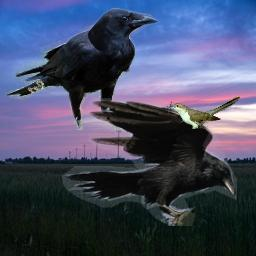Crow: (62, 98, 237, 226), (5, 8, 160, 130)
Cuckoo: (168, 96, 240, 129)
